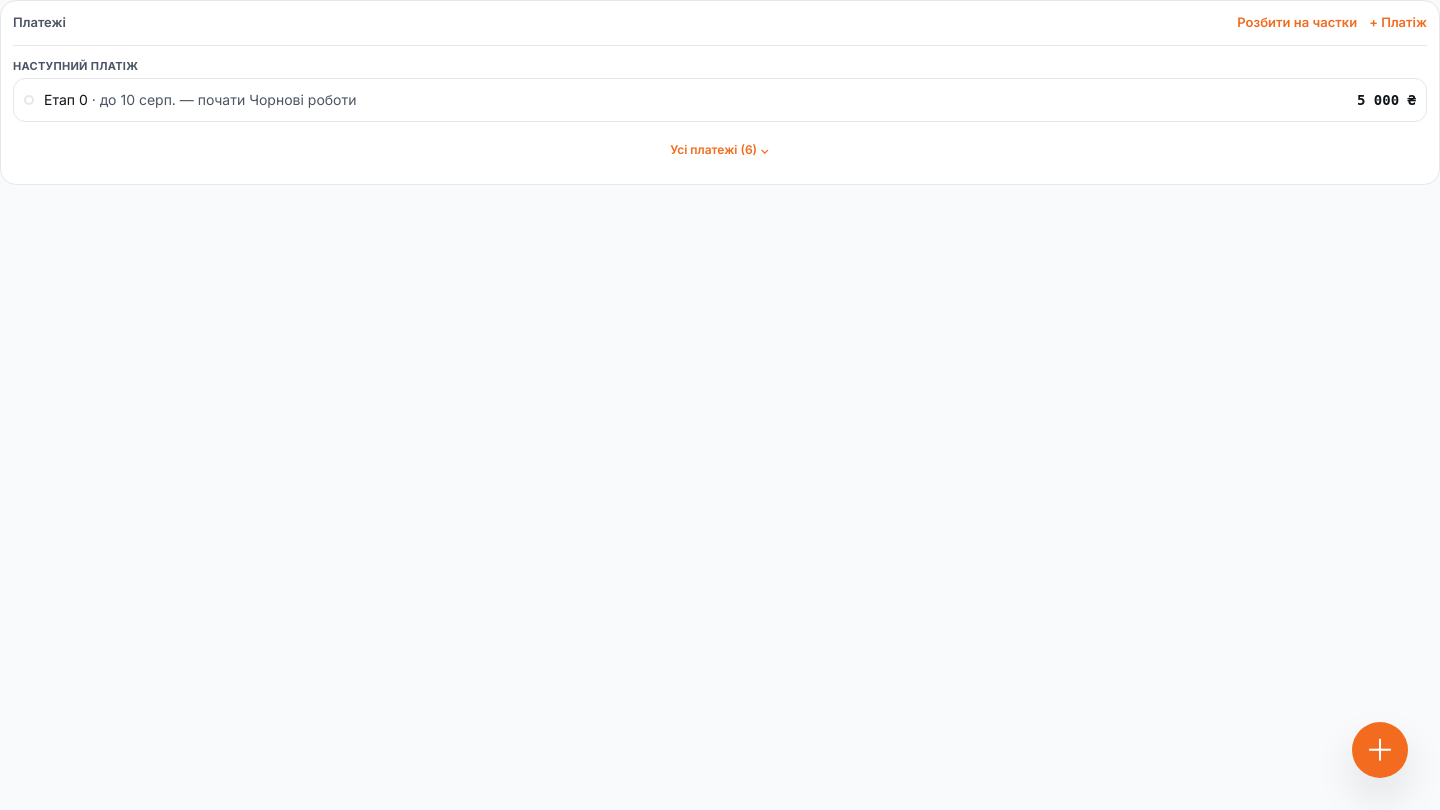
PaymentsBlock — plan vs fact (payments PLAN/FACT split, V100) › more than 5 payments collapses to a "Наступний платіж" card plus an expand toggle
The width and height of the screenshot is (1440, 810).
Expected: the text "Наступний платіж" is shown, [13, 58, 138, 72]
Expected: the text "Етап 5" is not shown
Click the button "Усі платежі (6) ⌄": (720, 150) [13, 128, 1427, 172]
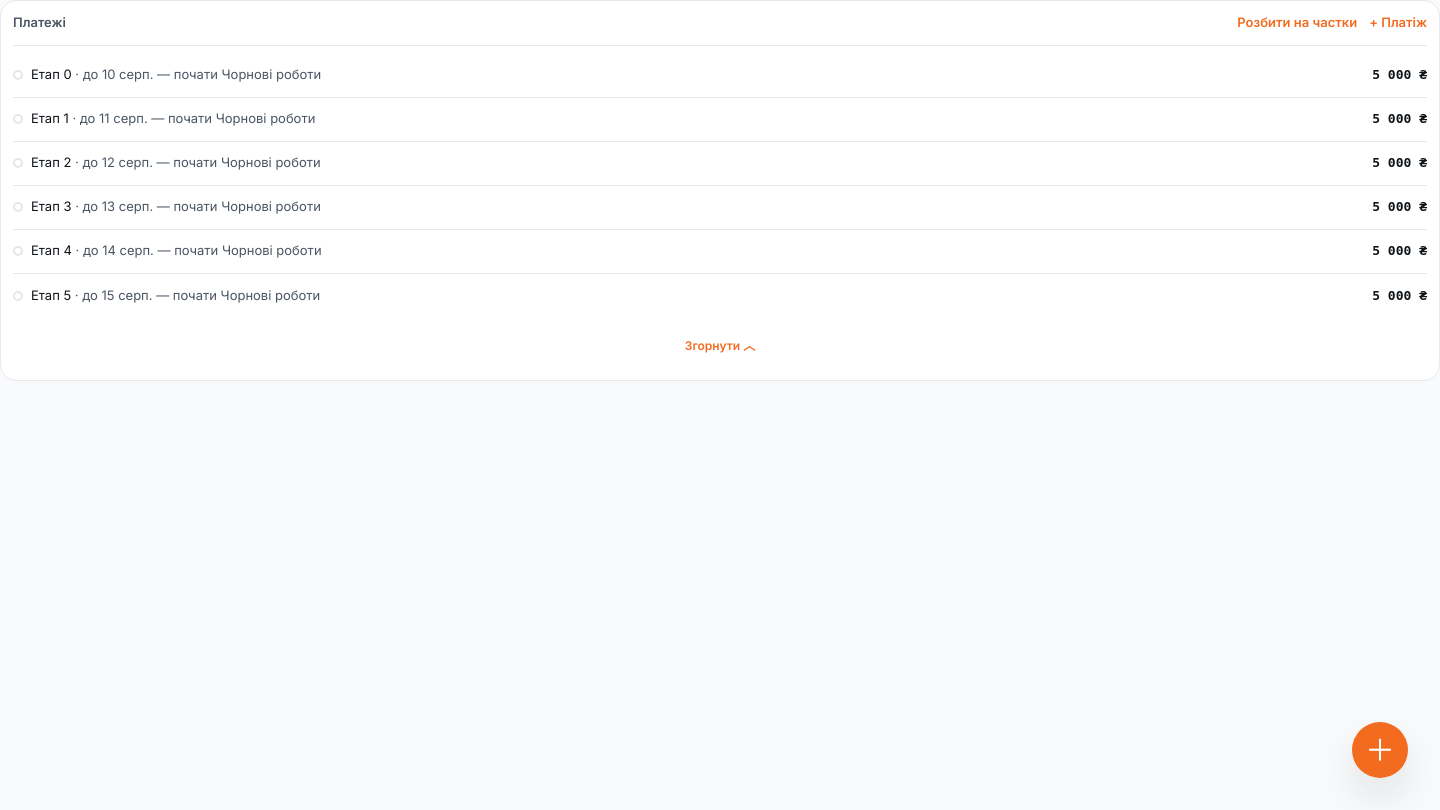
Expected: the text "Етап 5" is shown, [31, 287, 71, 303]
